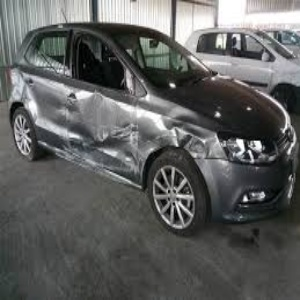door: (44, 101, 148, 170)
